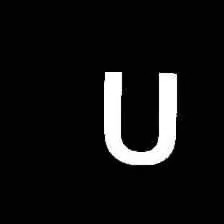LTR_U: (98, 59, 182, 169)
